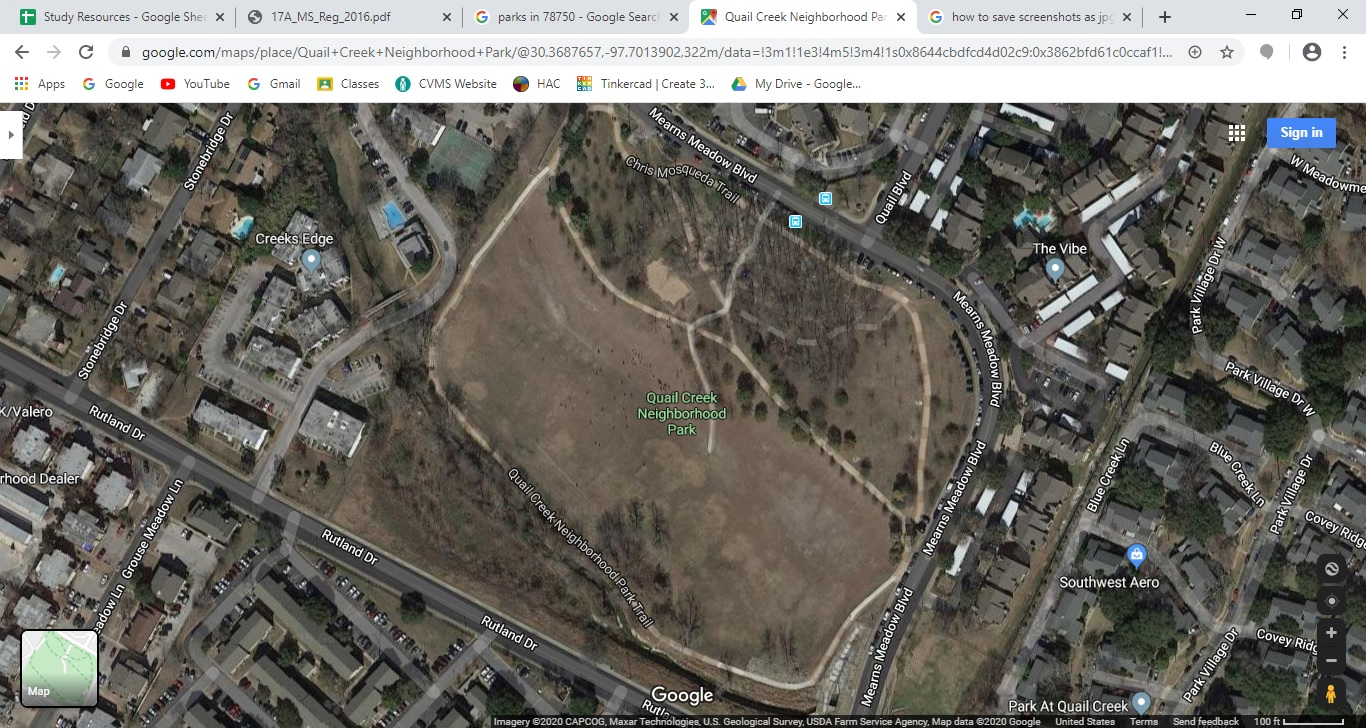soccer: (447, 342, 854, 561)
